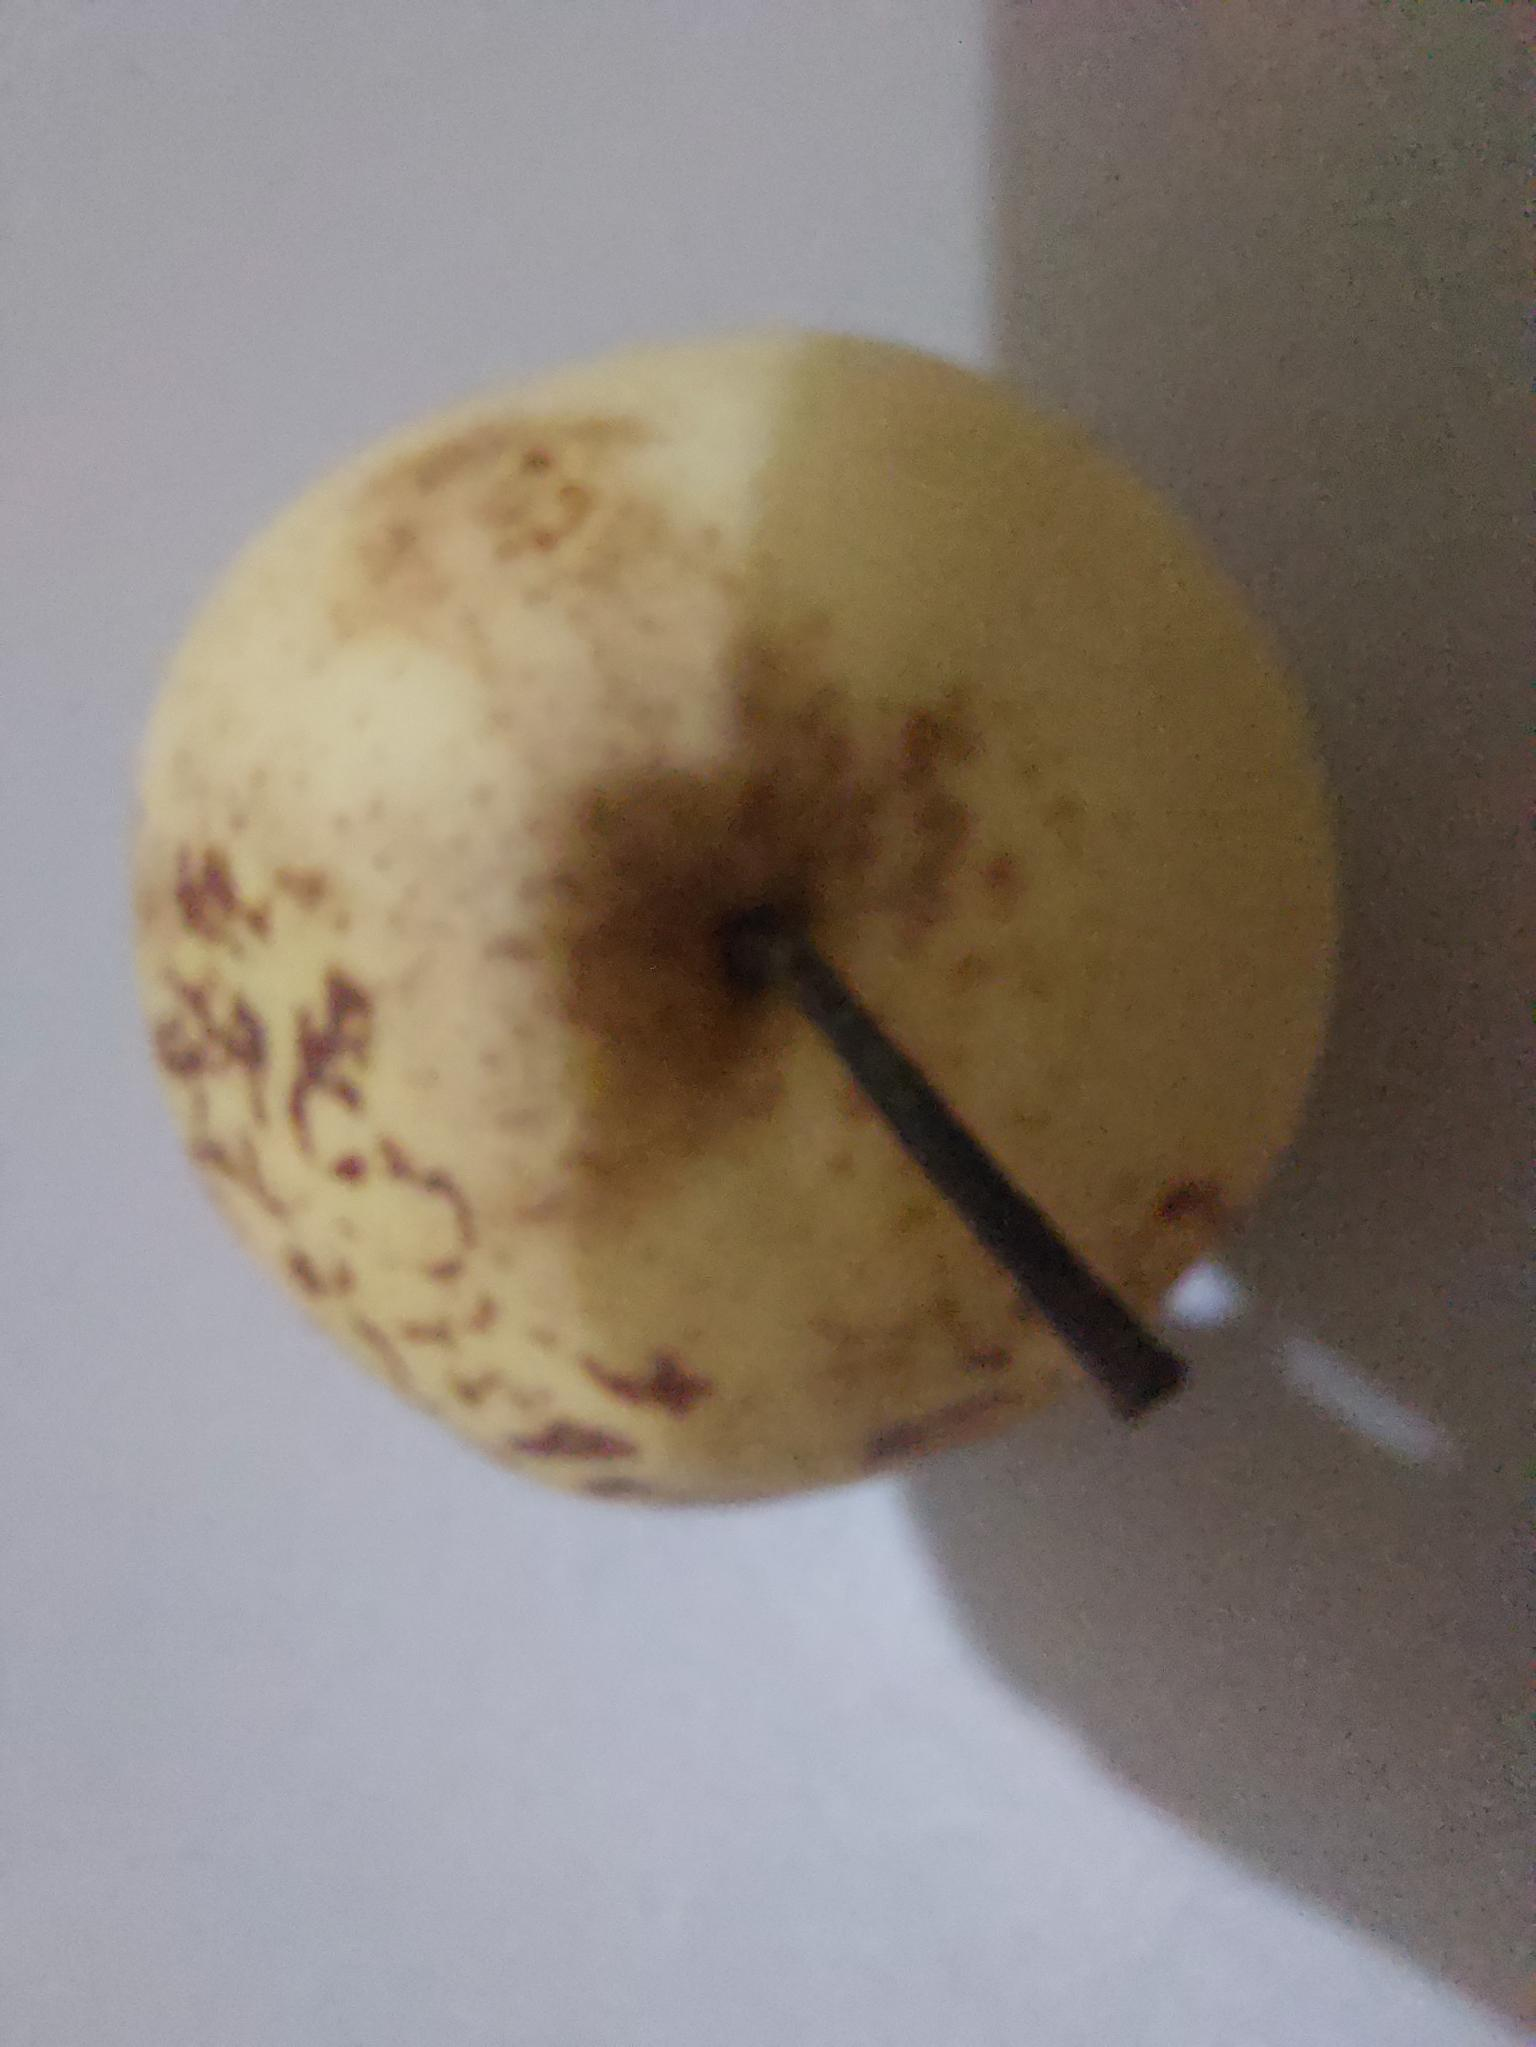Bad Pear: (163, 350, 1357, 1453)
